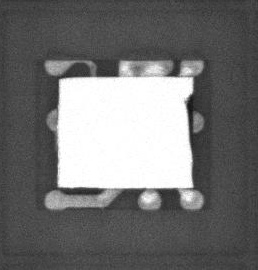DIE_BROKEN: (184, 94, 194, 148)
